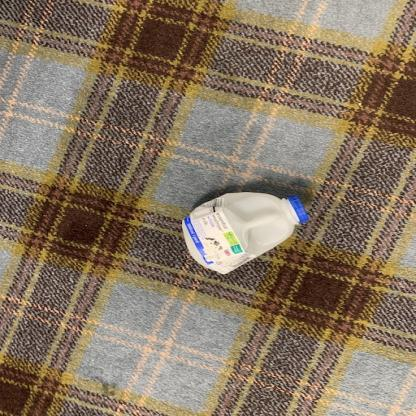trash: (181, 191, 312, 277)
